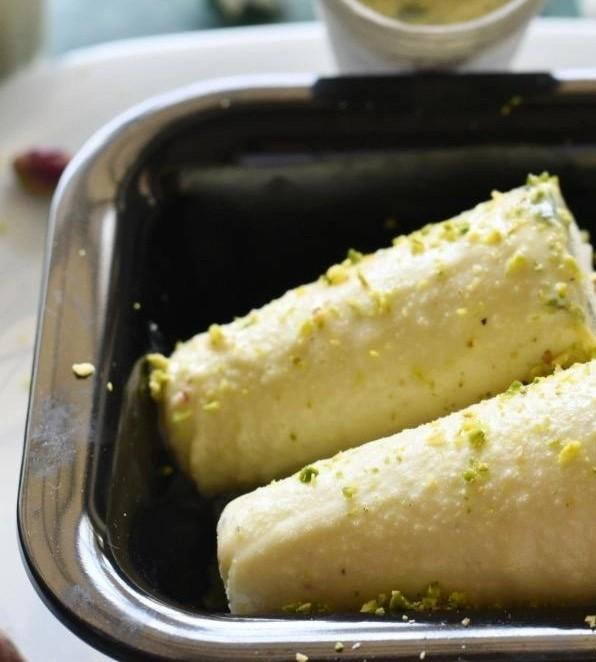Kulfi: (155, 165, 593, 492), (205, 359, 596, 617)
